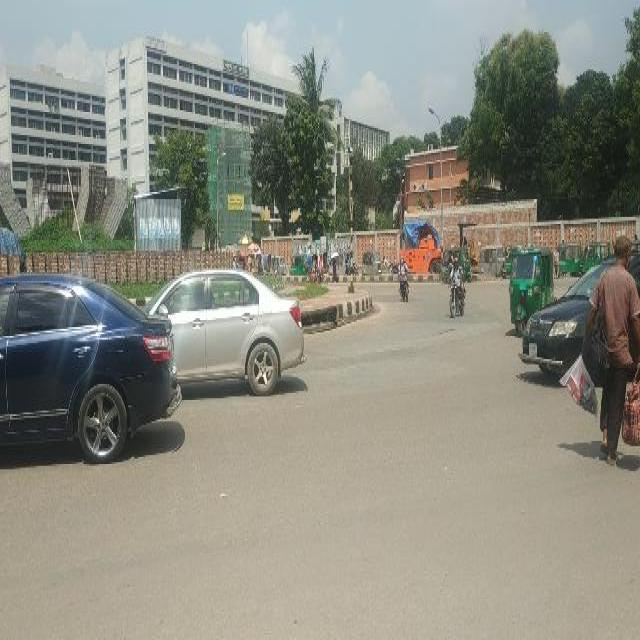car: (0, 274, 183, 468), (149, 265, 303, 396), (516, 269, 592, 378)
motorbike: (448, 256, 467, 316), (396, 254, 410, 304)
rickshaw: (304, 252, 328, 284)
three wheelers -CNG-: (508, 248, 556, 303), (478, 246, 506, 280), (556, 242, 584, 276), (361, 249, 381, 274), (460, 246, 472, 284), (270, 252, 286, 274), (290, 254, 304, 276)
